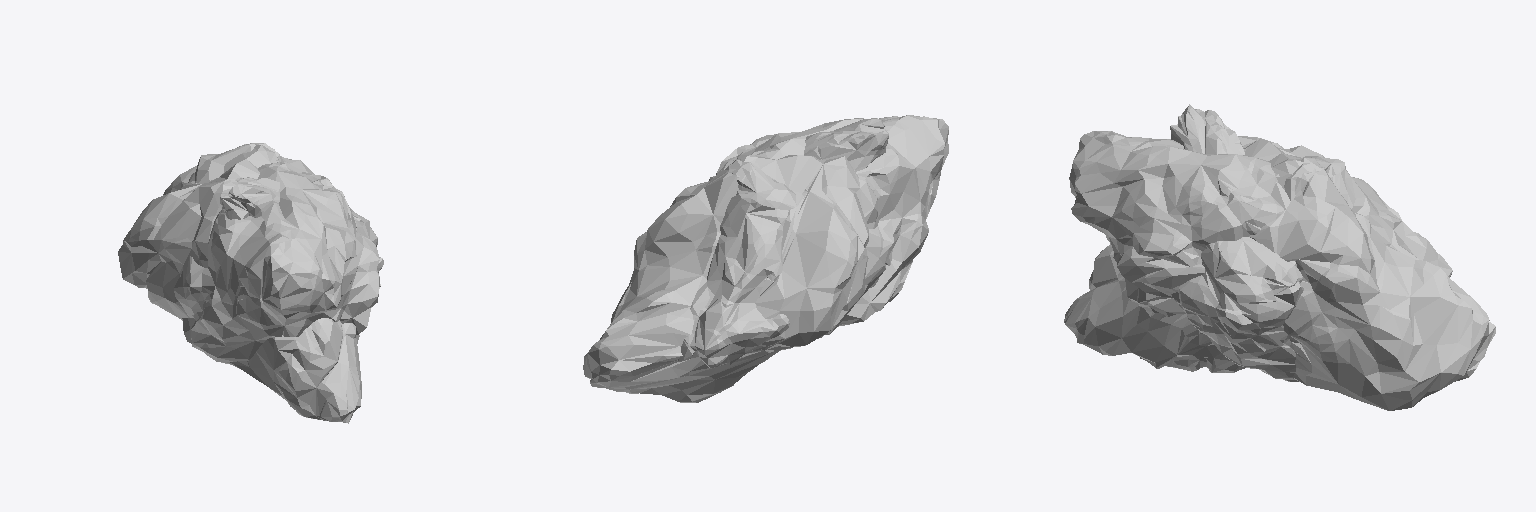
File: rock_space.obj
3 renders of one model, left to right at view 1: azimuth 30°, elevation 25°; view 2: azimuth 150°, elevation 25°; view 3: azimuth 270°, elevation 25°, orthographic.
Visible parts, largest first — view 1: polygon5, polygon7, polygon6; view 2: polygon7, polygon5, polygon6; view 3: polygon7, polygon5, polygon6.
Part boxes in pixels (bbox=[...]): polygon5: bbox=[163, 143, 380, 364]; polygon7: bbox=[118, 144, 361, 423]; polygon6: bbox=[220, 177, 383, 272]; polygon7: bbox=[583, 155, 892, 402]; polygon5: bbox=[678, 115, 948, 367]; polygon6: bbox=[804, 118, 888, 171]; polygon7: bbox=[1064, 136, 1495, 410]; polygon5: bbox=[1069, 131, 1452, 316]; polygon6: bbox=[1170, 104, 1303, 381].
Size of the model in its own units: 49.33 by 53.58 by 87.6.